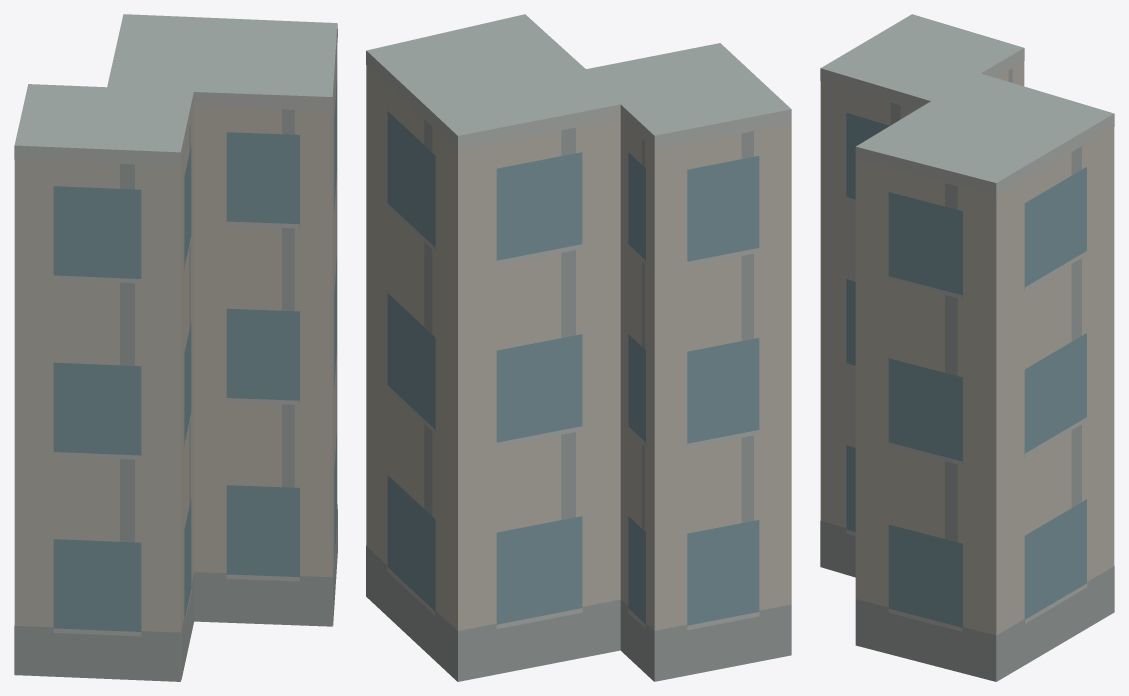
The model's file is survey-upis-33008617.glb.
3 views of the same model, side by side, from view 1: azimuth 30°, elevation 25°; view 2: azimuth 150°, elevation 25°; view 3: azimuth 270°, elevation 25° (orthographic). The views are drawn at different scales.
Parts seen in each view (by area): view 1: survey-upis-33008617.tmp; view 2: survey-upis-33008617.tmp; view 3: survey-upis-33008617.tmp.
Boxes of the visible parts, left/top/right/bottom form: survey-upis-33008617.tmp: left=14, top=14, right=337, bottom=681; survey-upis-33008617.tmp: left=366, top=14, right=791, bottom=681; survey-upis-33008617.tmp: left=820, top=14, right=1114, bottom=681.
Size of the model in its own units: 6.66 by 9.15 by 4.9.
